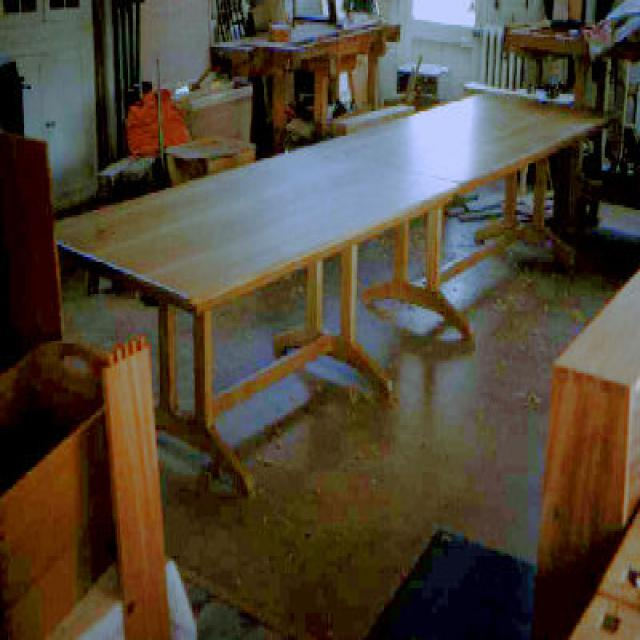table: (52, 79, 608, 498)
